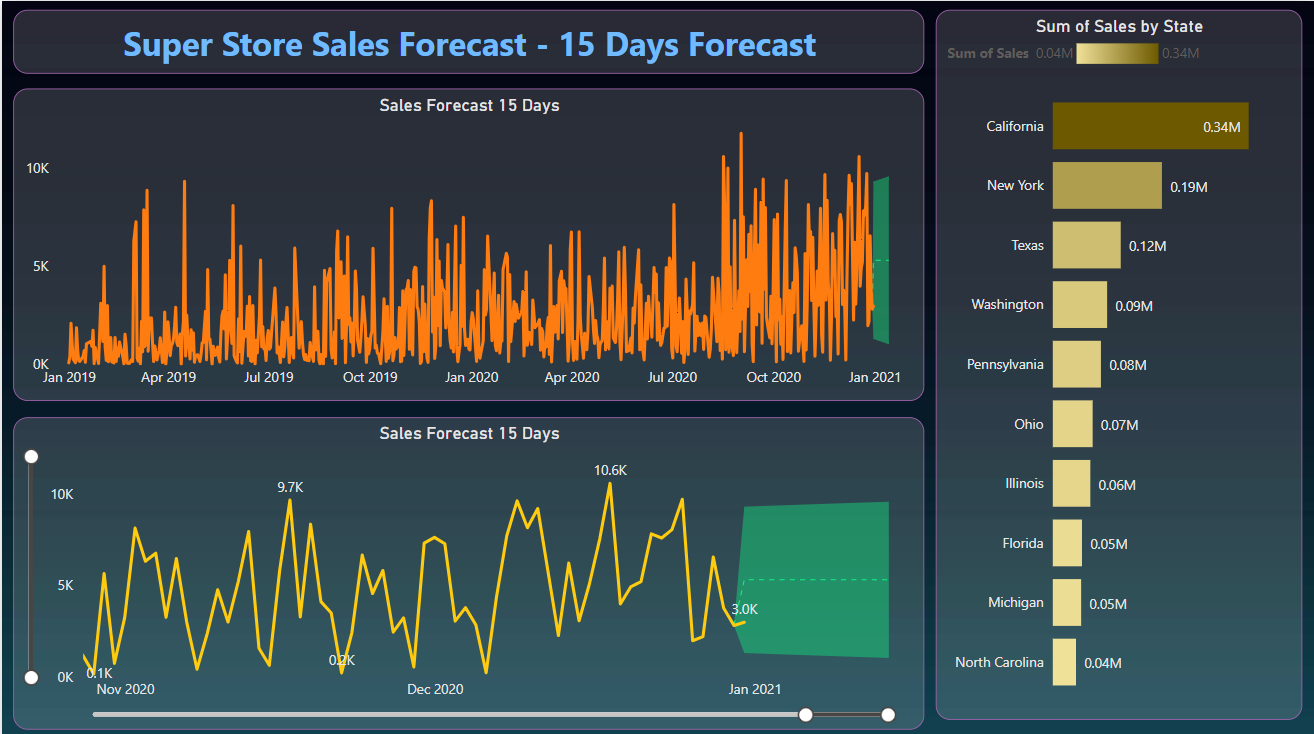

The page's visual inventory and layout, read from the dashboard file:
{"tool":"powerbi","page":{"name":"Sales Forecast","canvas":[1280,720],"ordinal":1},"visuals":[{"type":"textbox","box":[11,8.5,889,62.2],"z":0},{"type":"lineChart","title":"Sales Forecast 15 Days","fields":{"Category":["Sheet1.Order Date"],"Y":["Sum(Sheet1.Sales)"]},"box":[11,86,889,304.9],"z":1000},{"type":"lineChart","title":"Sales Forecast 15 Days","fields":{"Category":["Sheet1.Order Date"],"Y":["Sum(Sheet1.Sales)"]},"box":[11,406.1,889,304.9],"z":2000},{"type":"clusteredBarChart","fields":{"Y":["Sum(Sheet1.Sales)"],"Category":["Sheet1.State"]},"box":[911,8.5,357.3,692.7],"z":3000}]}

Visuals, with their boxes in screenshot pixels (x1, y1, x2, y2), scaled from the page's 1280x720 canvas onto the 1314x734 screenshot:
textbox: BBox(11, 9, 924, 72)
"Sales Forecast 15 Days" lineChart: BBox(11, 88, 924, 399)
"Sales Forecast 15 Days" lineChart: BBox(11, 414, 924, 725)
clusteredBarChart - Sum(Sheet1.Sales) x Sheet1.State: BBox(935, 9, 1302, 715)
